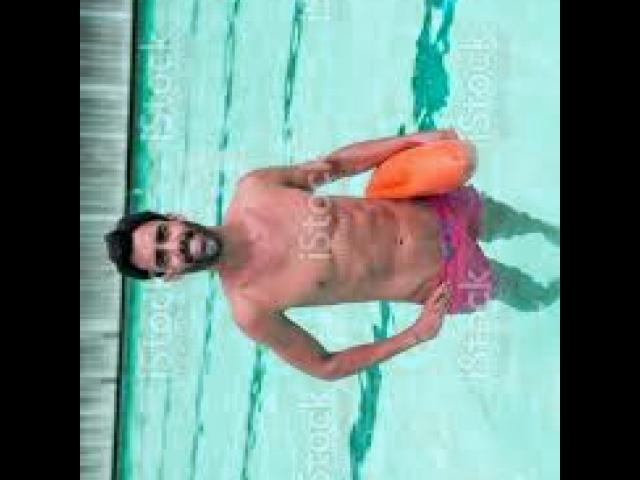swimming: (111, 128, 558, 384)
